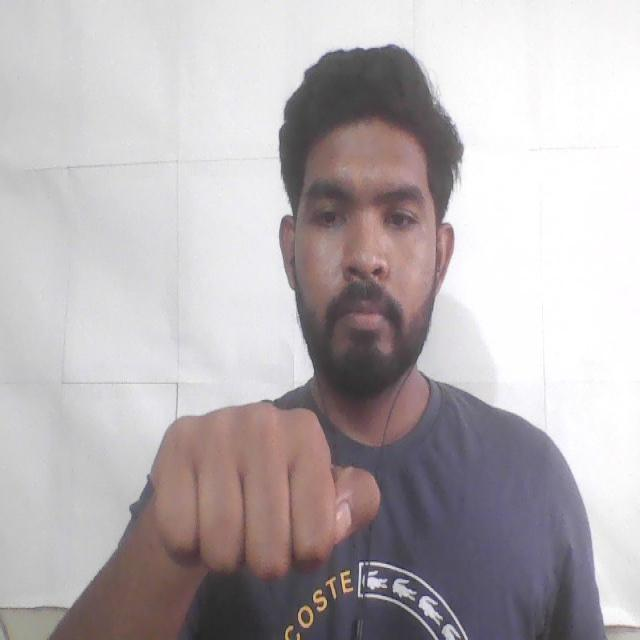Yes: (136, 394, 392, 599)
